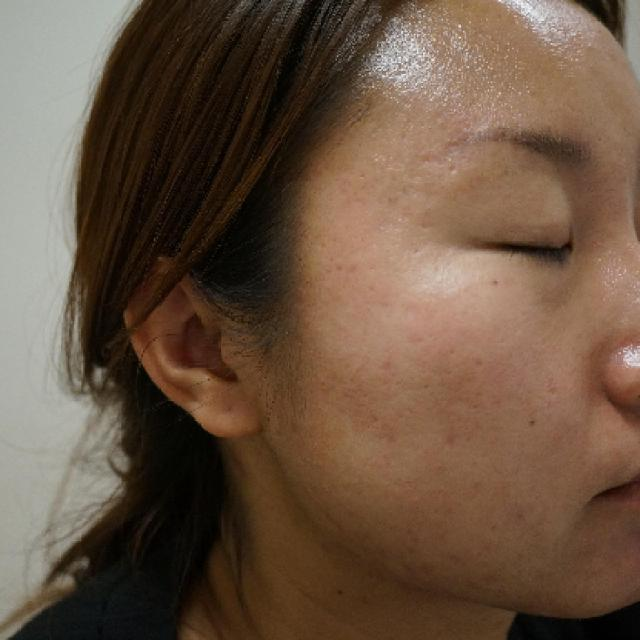Blackheads: (516, 405, 546, 437)
